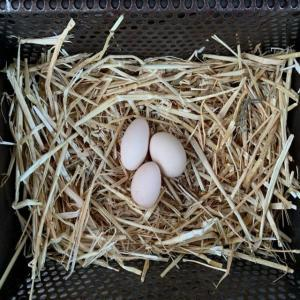Egg: (114, 105, 152, 171), (130, 158, 167, 217), (150, 128, 192, 179)
